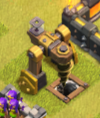dark_elixir_colector: (16, 13, 86, 103)
